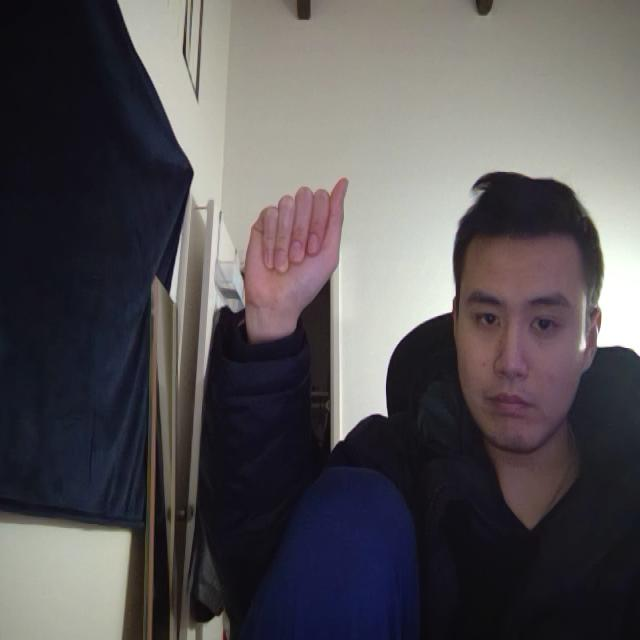A: (230, 135, 374, 362)
